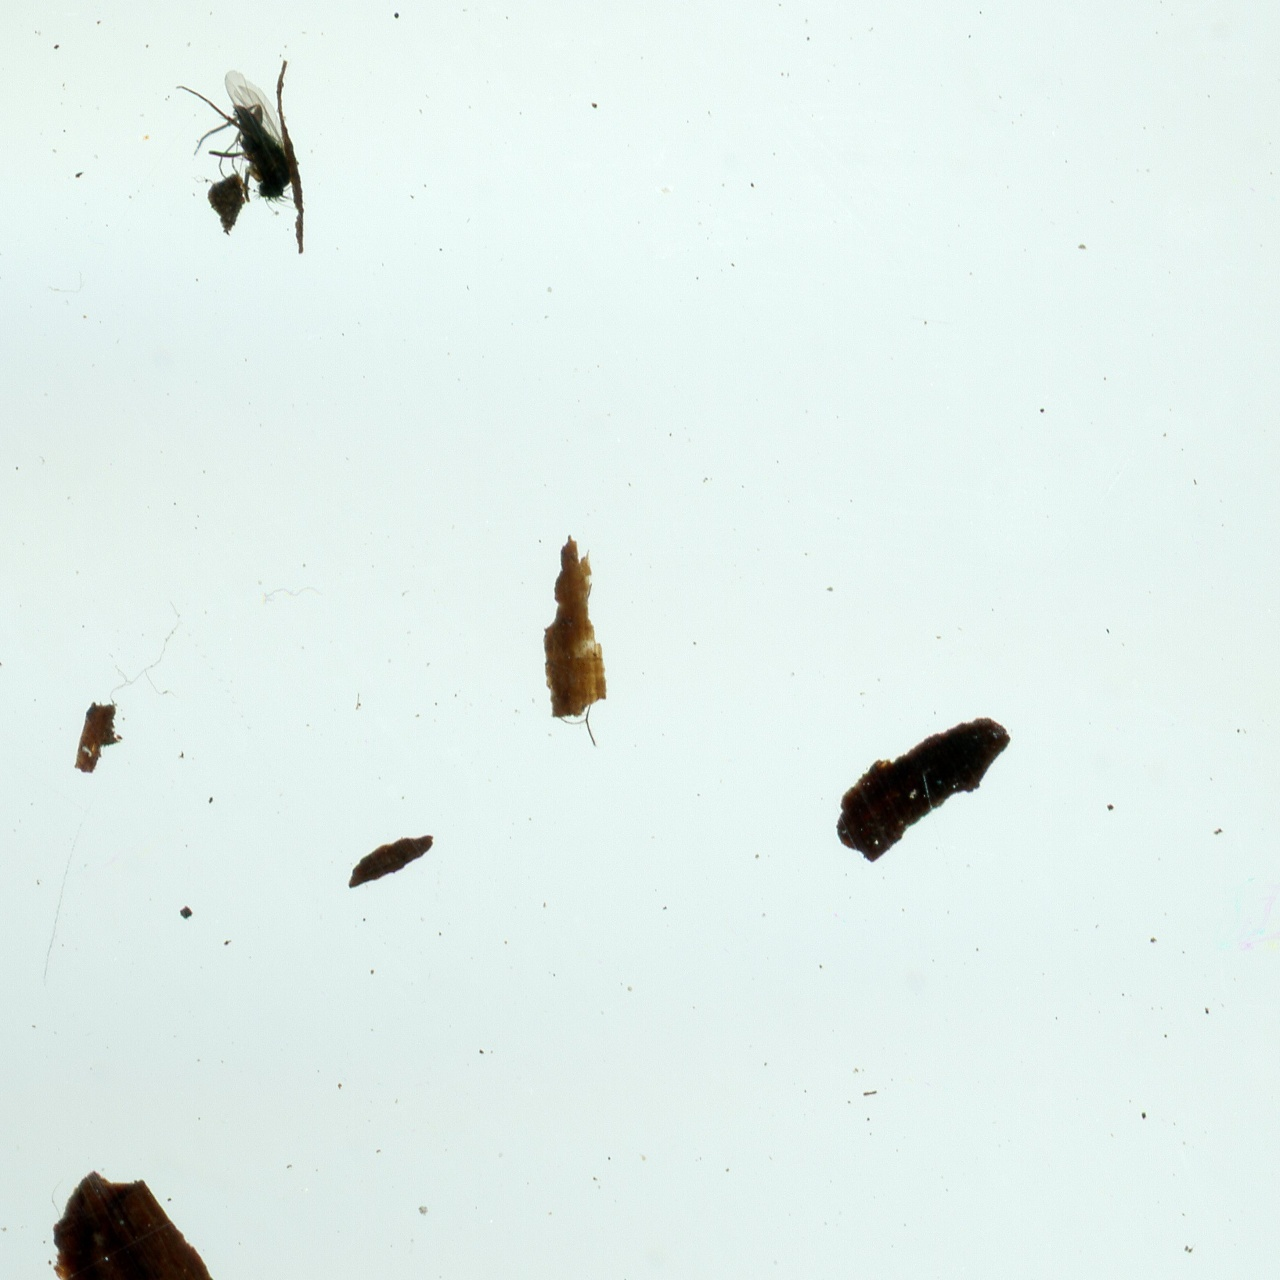arthropod: (163, 50, 319, 243)
